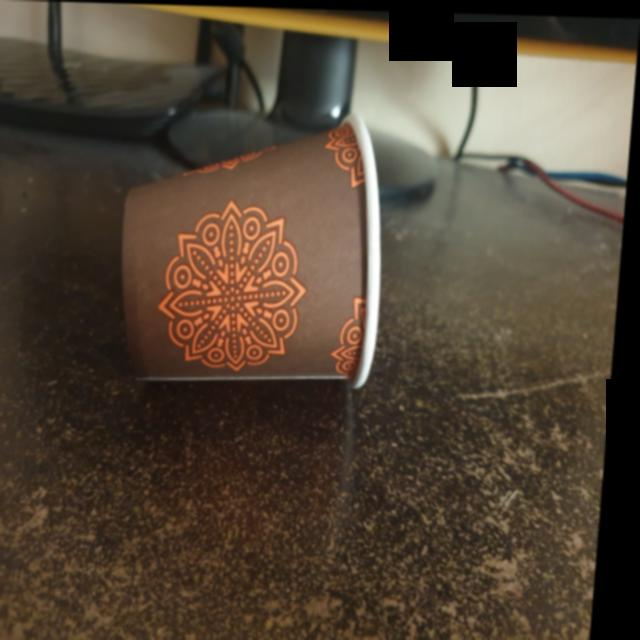cups: (106, 102, 404, 401)
